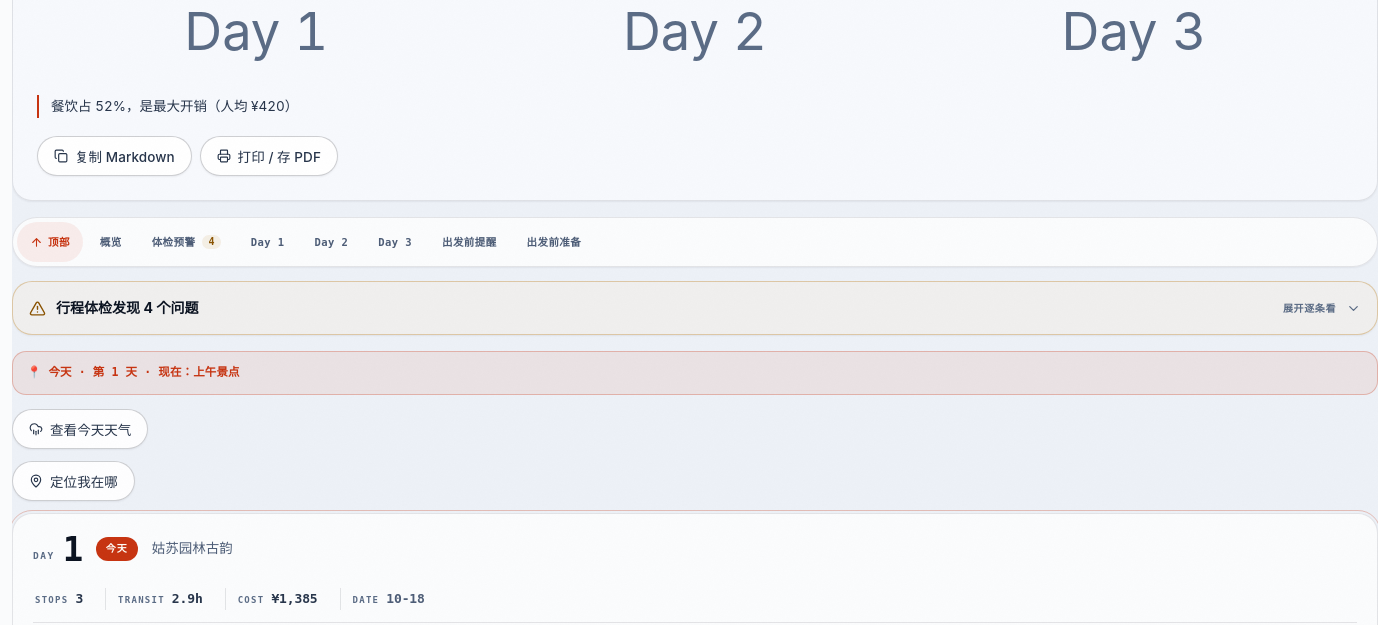
Test case: PlanView 行中高亮（今天） › 天气查不到 → 降级提示原因，不编造天气
The width and height of the screenshot is (1378, 625).
(page scrolled)
Click the button "查看今天天气".
click(80, 429)  # box [12,409,148,449]
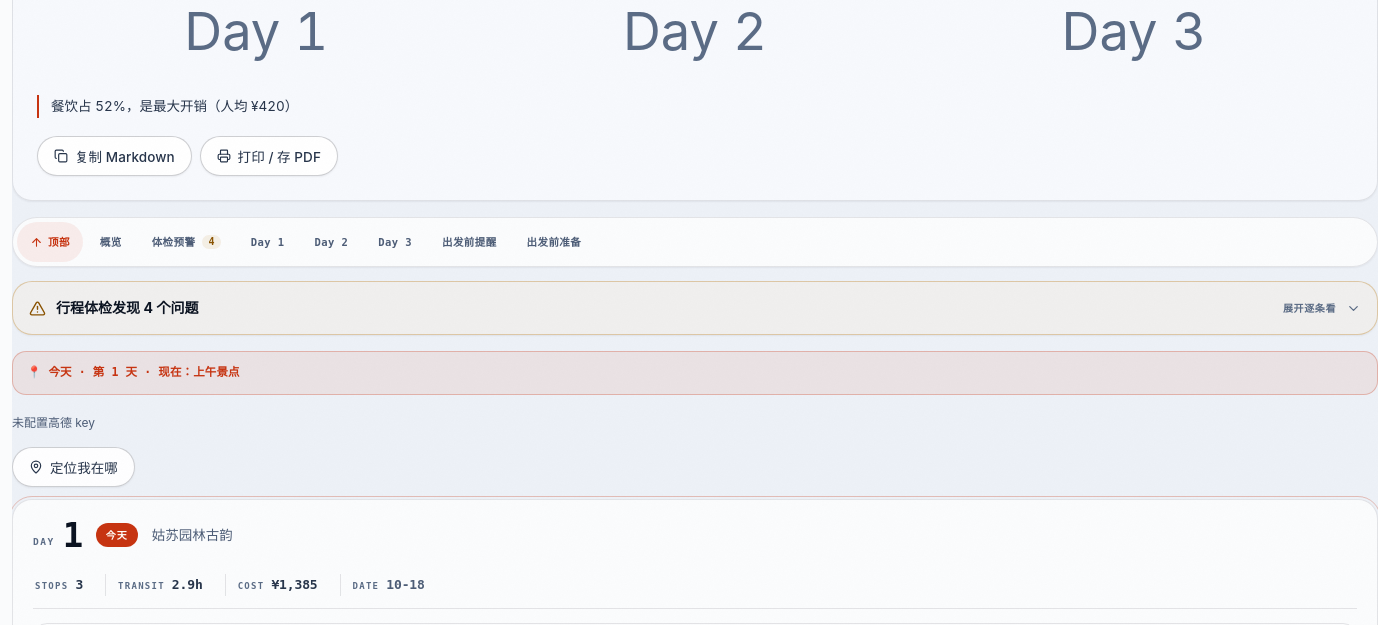
Now the text "未配置高德 key" is shown, box [12,415,95,430]
